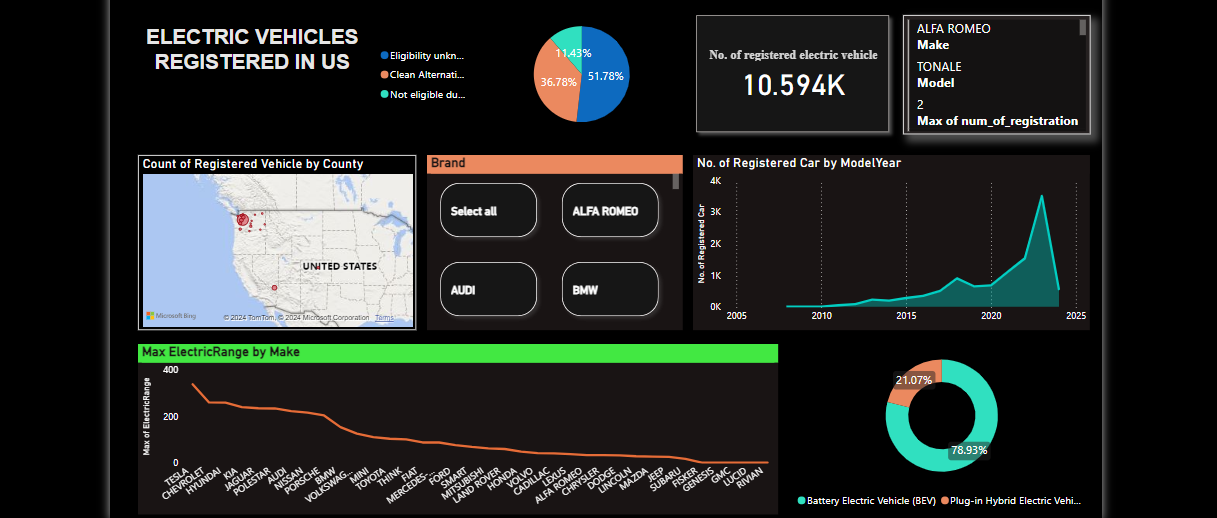

The dashboard page shown, as its layout file describes it:
{"tool":"powerbi","page":{"name":"EV registered in US","canvas":[1280,720],"ordinal":1},"visuals":[{"type":"cardVisual","title":"No. of registered electric vehicle in US ","fields":{"Data":["CountNonNull(electriccar registeredcardata.DOLVehicleID)"]},"box":[739.1,50.3,283.5,185.8],"z":0},{"type":"actionButton","box":[1.4,-0.6,100,40],"z":1000},{"type":"donutChart","fields":{"Y":["CountNonNull(electriccar registeredcardata.ElectricVehicleType)"],"Category":["electriccar registeredcardata.ElectricVehicleType"]},"box":[880.8,485.2,384,227.1],"z":2000},{"type":"map","title":"Count of Registered Vehicle by County","fields":{"Category":["electriccar registeredcardata.County","electriccar registeredcardata.City","electriccar registeredcardata.State"],"Size":["CountNonNull(electriccar registeredcardata.DOLVehicleID)"]},"box":[35.8,247.1,359.2,225.7],"z":3000},{"type":"lineChart","fields":{"Category":["electriccar registeredcardata.ModelYear"],"Y":["CountNonNull(electriccar registeredcardata.DOLVehicleID)"]},"box":[752.8,247.1,512,225.7],"z":4000},{"type":"advancedSlicerVisual","title":"Brand","fields":{"Values":["electriccar registeredcardata.Make"]},"box":[408.7,247.1,330.3,225.7],"z":5000},{"type":"lineChart","title":"Max  ElectricRange by Make","fields":{"Category":["electriccar registeredcardata.Make"],"Y":["Max(electriccar registeredcardata.ElectricRange)"]},"box":[35.8,492.1,825.8,220.2],"z":6000},{"type":"pieChart","fields":{"Category":["electriccar registeredcardata.CleanAlternativeFuelVehicle_Eligibility"],"Y":["CountNonNull(electriccar registeredcardata.CleanAlternativeFuelVehicle_Eligibility)"]},"box":[342.7,57.2,410.2,173.4],"z":7000},{"type":"multiRowCard","fields":{"Values":["Most popular car in US.Make","Most popular car in US.Model","Max(Most popular car in US.num_of_registration)"]},"box":[1022.6,66.8,242.2,154.2],"z":8000},{"type":"textbox","box":[35.8,76.5,294.5,77.1],"z":9000}]}

Visuals, with their boxes on the page's 1280x720 design canvas (x1, y1, x2, y2). These are canvas units, not pixel positions in the 1217x518 screenshot, which may show the page scaled, cropped or inside an application window:
"No. of registered electric vehicle in US " cardVisual: [739, 50, 1023, 236]
actionButton: [1, -1, 101, 39]
donutChart - CountNonNull(electriccar registeredcardata.ElectricVehicleType) x electriccar registeredcardata.ElectricVehicleType: [881, 485, 1265, 712]
"Count of Registered Vehicle by County" map: [36, 247, 395, 473]
lineChart - electriccar registeredcardata.ModelYear x CountNonNull(electriccar registeredcardata.DOLVehicleID): [753, 247, 1265, 473]
"Brand" advancedSlicerVisual: [409, 247, 739, 473]
"Max  ElectricRange by Make" lineChart: [36, 492, 862, 712]
pieChart - electriccar registeredcardata.CleanAlternativeFuelVehicle_Eligibility x CountNonNull(electriccar registeredcardata.CleanAlternativeFuelVehicle_Eligibility): [343, 57, 753, 231]
multiRowCard - Most popular car in US.Make x Most popular car in US.Model: [1023, 67, 1265, 221]
textbox: [36, 76, 330, 154]
